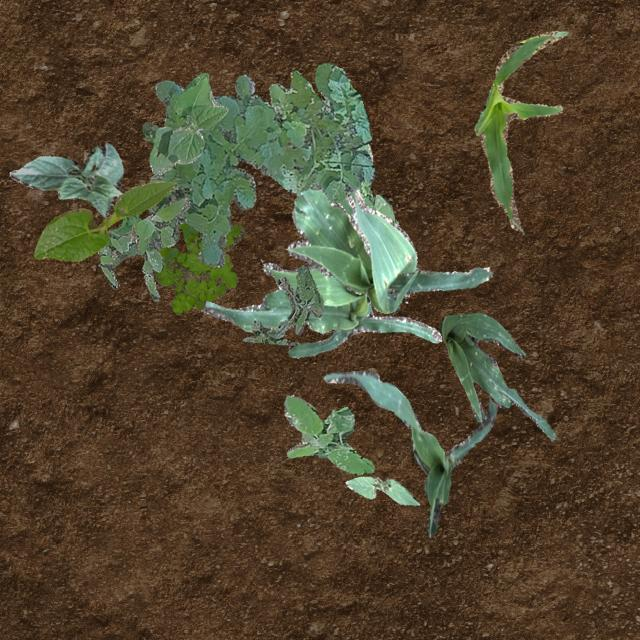crop: (200, 198, 440, 358), (322, 369, 496, 536), (284, 188, 492, 312), (474, 30, 566, 232), (438, 312, 556, 439), (34, 180, 175, 260), (8, 142, 122, 216), (148, 72, 228, 174), (354, 142, 394, 220), (344, 476, 418, 506)
weed: (108, 61, 374, 268), (96, 196, 188, 300), (152, 222, 244, 312), (282, 394, 373, 474), (242, 264, 322, 344)
